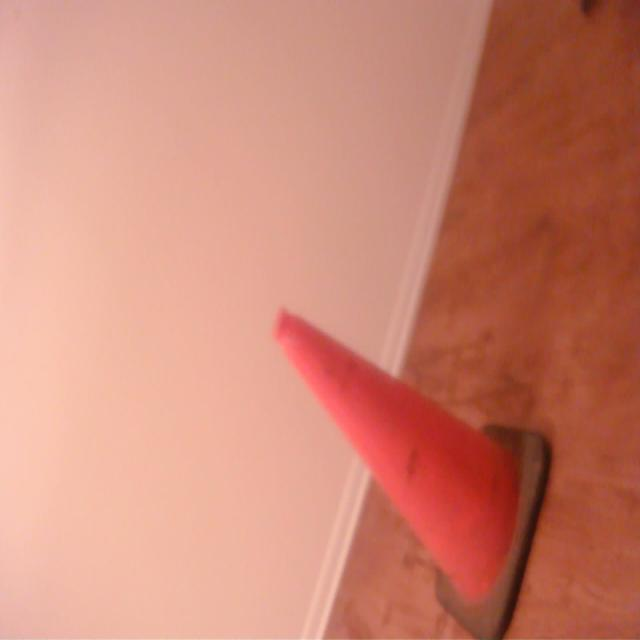traffic cone: (270, 304, 556, 640)
